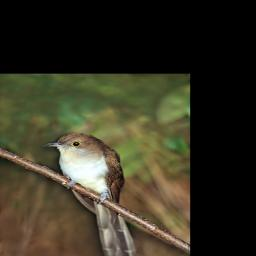Cuckoo: (45, 132, 137, 256)
